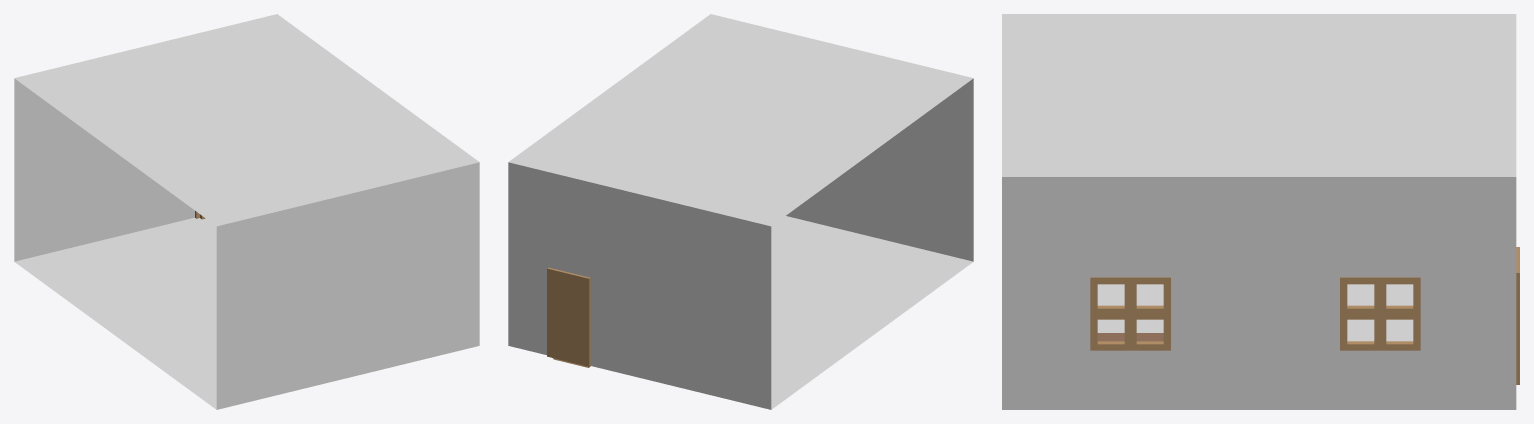
The model's file is room.glb.
3 views of the same model, side by side, from view 1: azimuth 30°, elevation 25°; view 2: azimuth 150°, elevation 25°; view 3: azimuth 270°, elevation 25° (orthographic). The views are drawn at different scales.
Parts seen in each view (by area): view 1: Cube; view 2: Cube, Door; view 3: Cube, Window.001, Window, Door, Cube.001.
Part boxes in pixels (left/top/right/bottom): Cube: left=14, top=14, right=479, bottom=409; Cube: left=508, top=14, right=973, bottom=409; Door: left=547, top=267, right=590, bottom=367; Cube: left=1002, top=14, right=1516, bottom=409; Window.001: left=1340, top=277, right=1420, bottom=350; Window: left=1090, top=277, right=1170, bottom=350; Door: left=1516, top=247, right=1519, bottom=384; Cube.001: left=1097, top=333, right=1163, bottom=341.
Bounding box in the file's own units: 7.52 × 5.11 × 10.07.
